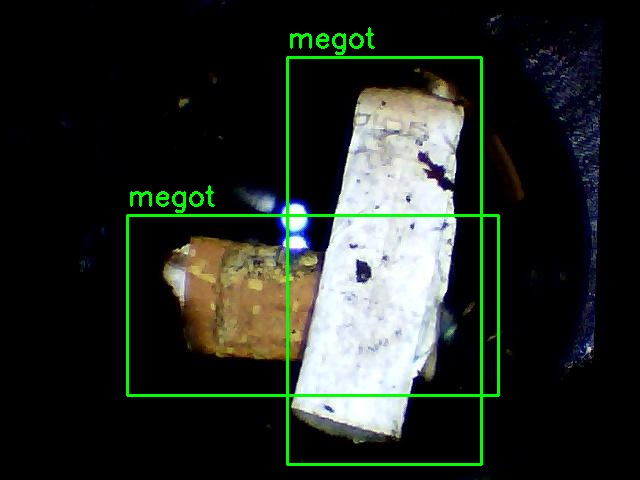megot: (287, 57, 481, 464), (127, 215, 498, 395)
